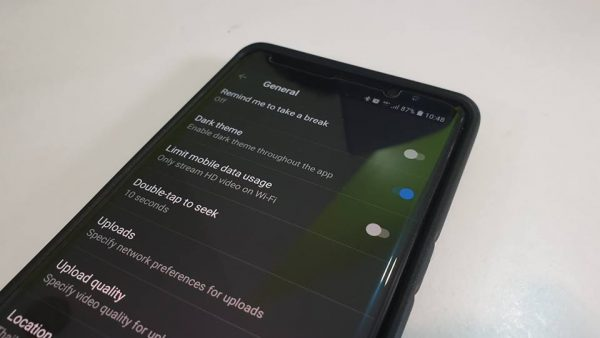Phone: (1, 38, 484, 338)
